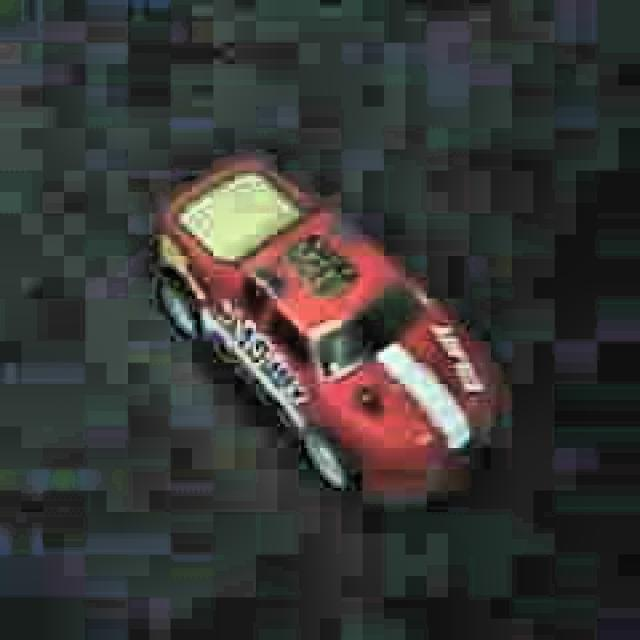car: (150, 149, 503, 510)
